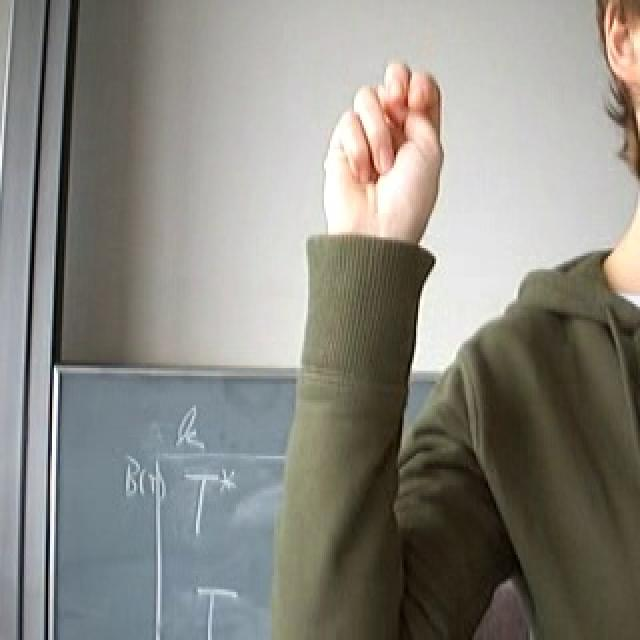N: (296, 47, 463, 267)
